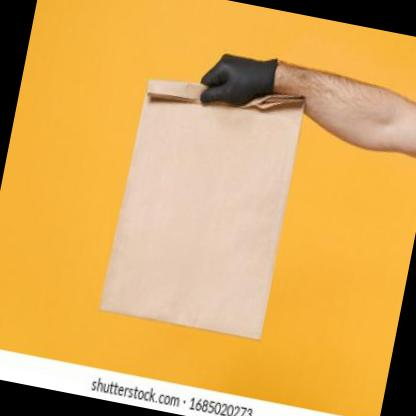Gloves: (195, 43, 281, 119)
